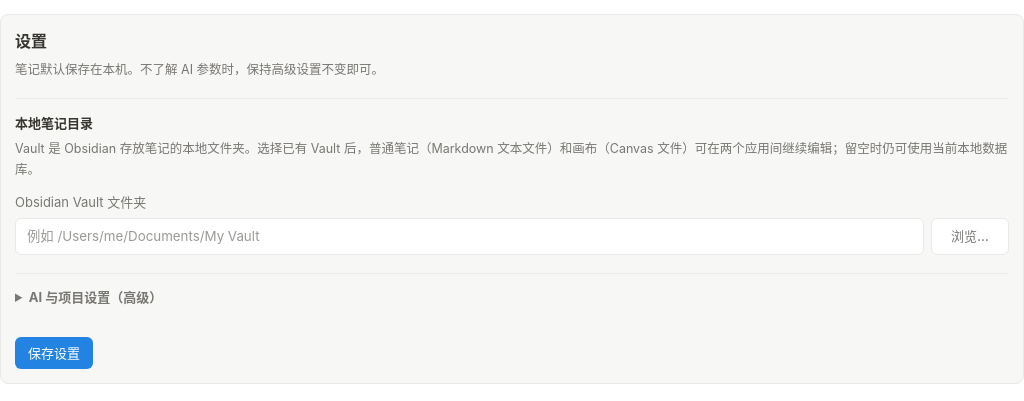
Test: SettingsPanel › chooses the local notebook folder with the native picker
Click the button "浏览…": (970, 236) x1=931 y1=218 x2=1009 y2=255
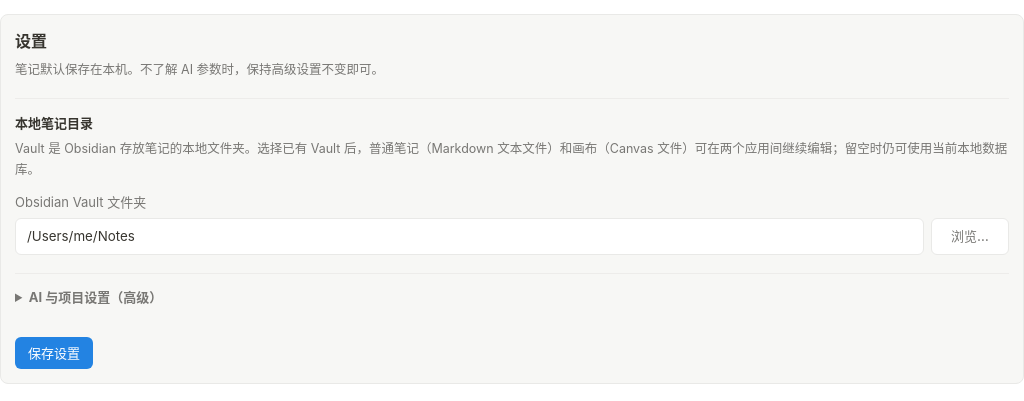
Expected: the field labelled "Obsidian Vault 文件夹" holds "/Users/me/Notes", x1=15 y1=218 x2=924 y2=255
